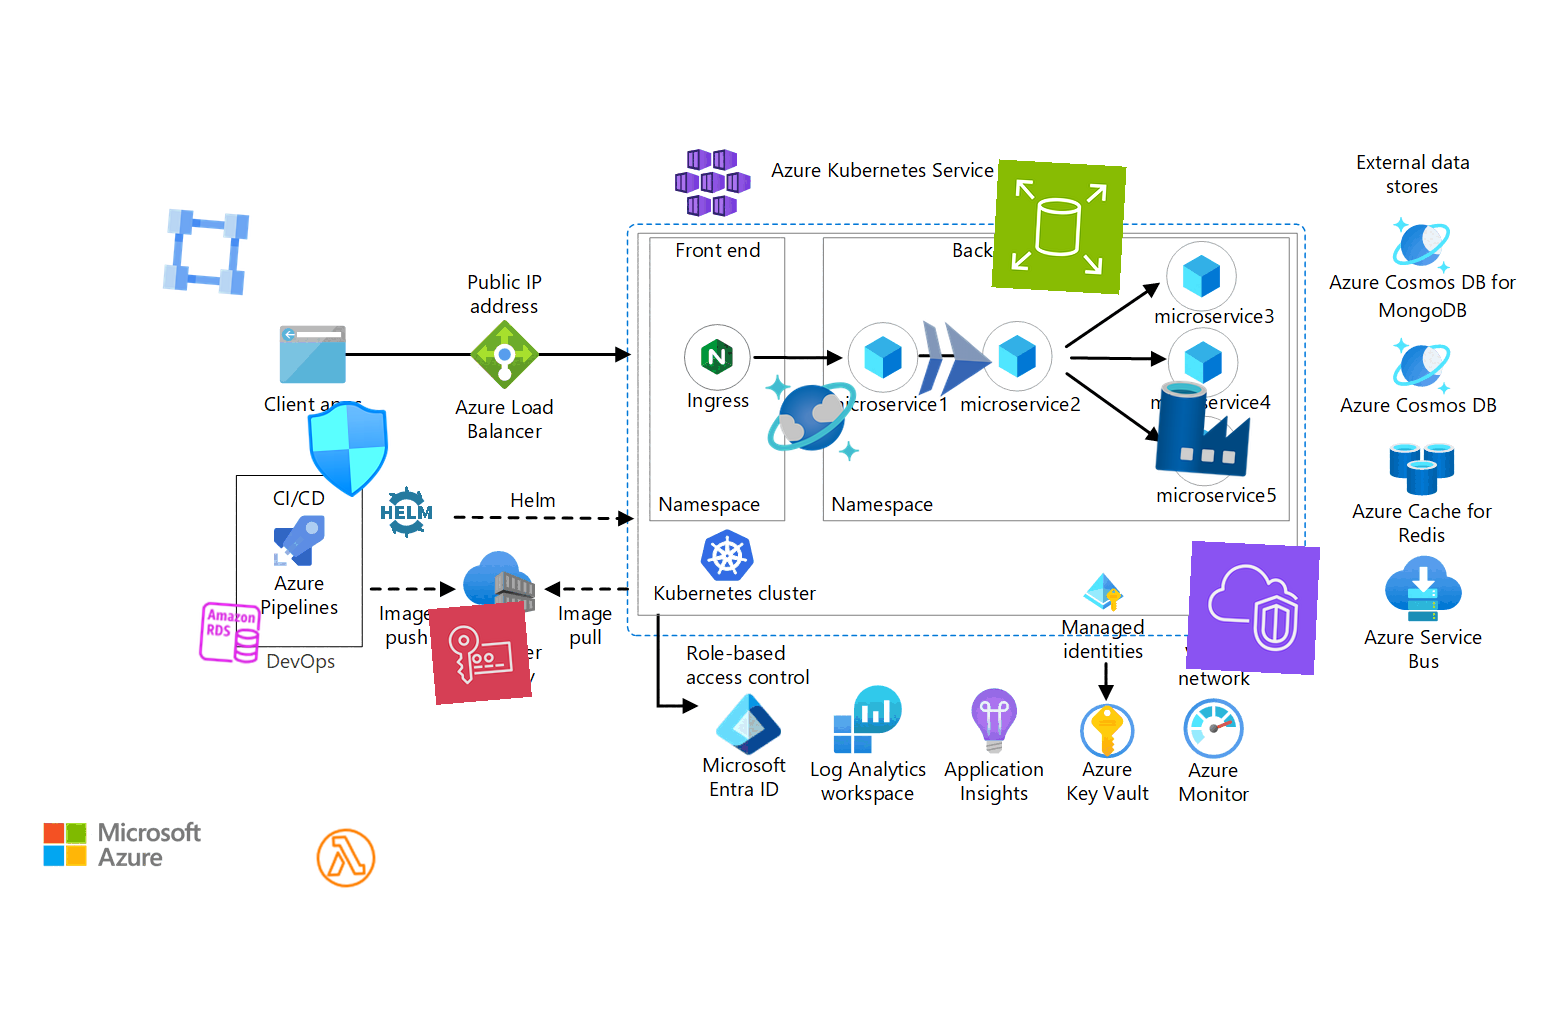aws_amazon_elastic_block_store: (991, 159, 1127, 295)
aws_amazon_virtual_private_cloud: (1185, 540, 1321, 676)
aws_aurora_amazon_rds_instance: (195, 598, 265, 668)
aws_key_management_service: (429, 601, 532, 705)
aws_lambda_lambda_function: (312, 824, 380, 892)
azure_cosmos_db: (761, 367, 863, 469)
azure_data_factories: (1151, 376, 1256, 480)
azure_network_security_groups: (298, 398, 400, 500)
gcp_cloud_run: (904, 309, 1006, 411)
gcp_virtual_private_cloud: (154, 199, 258, 304)
